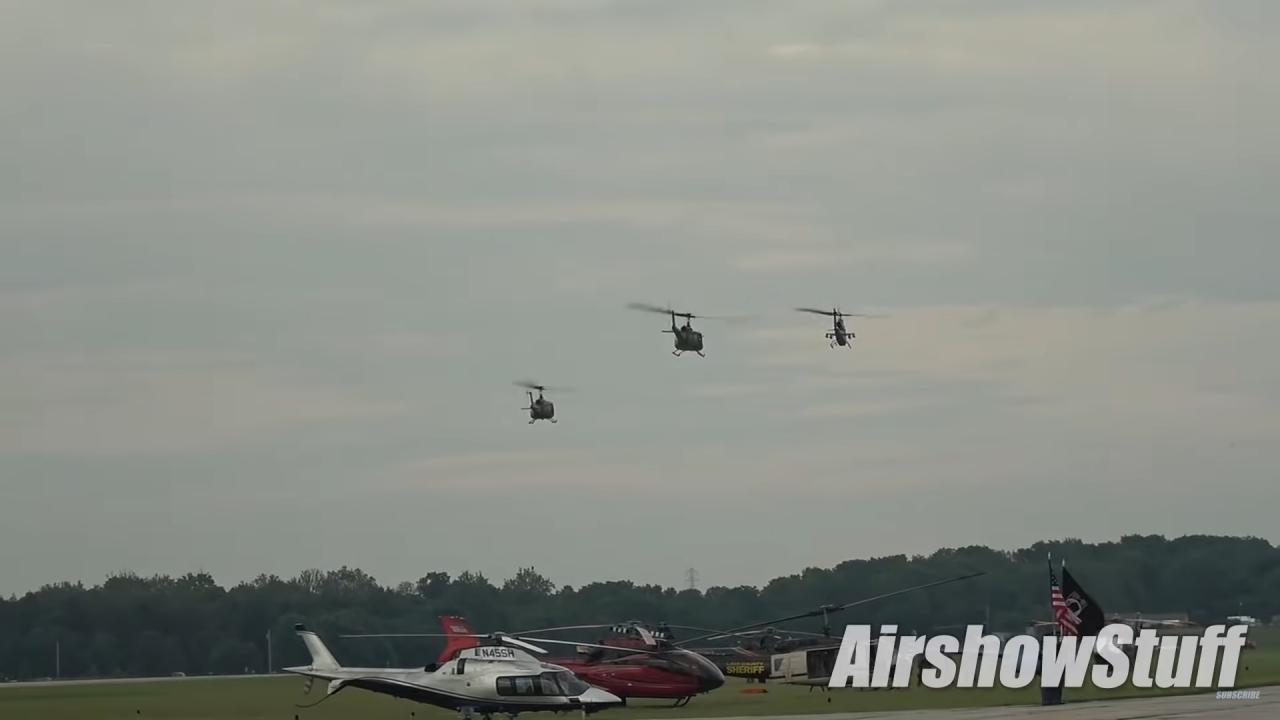Helicopter: (619, 290, 771, 373), (485, 365, 596, 441), (787, 293, 902, 361)
